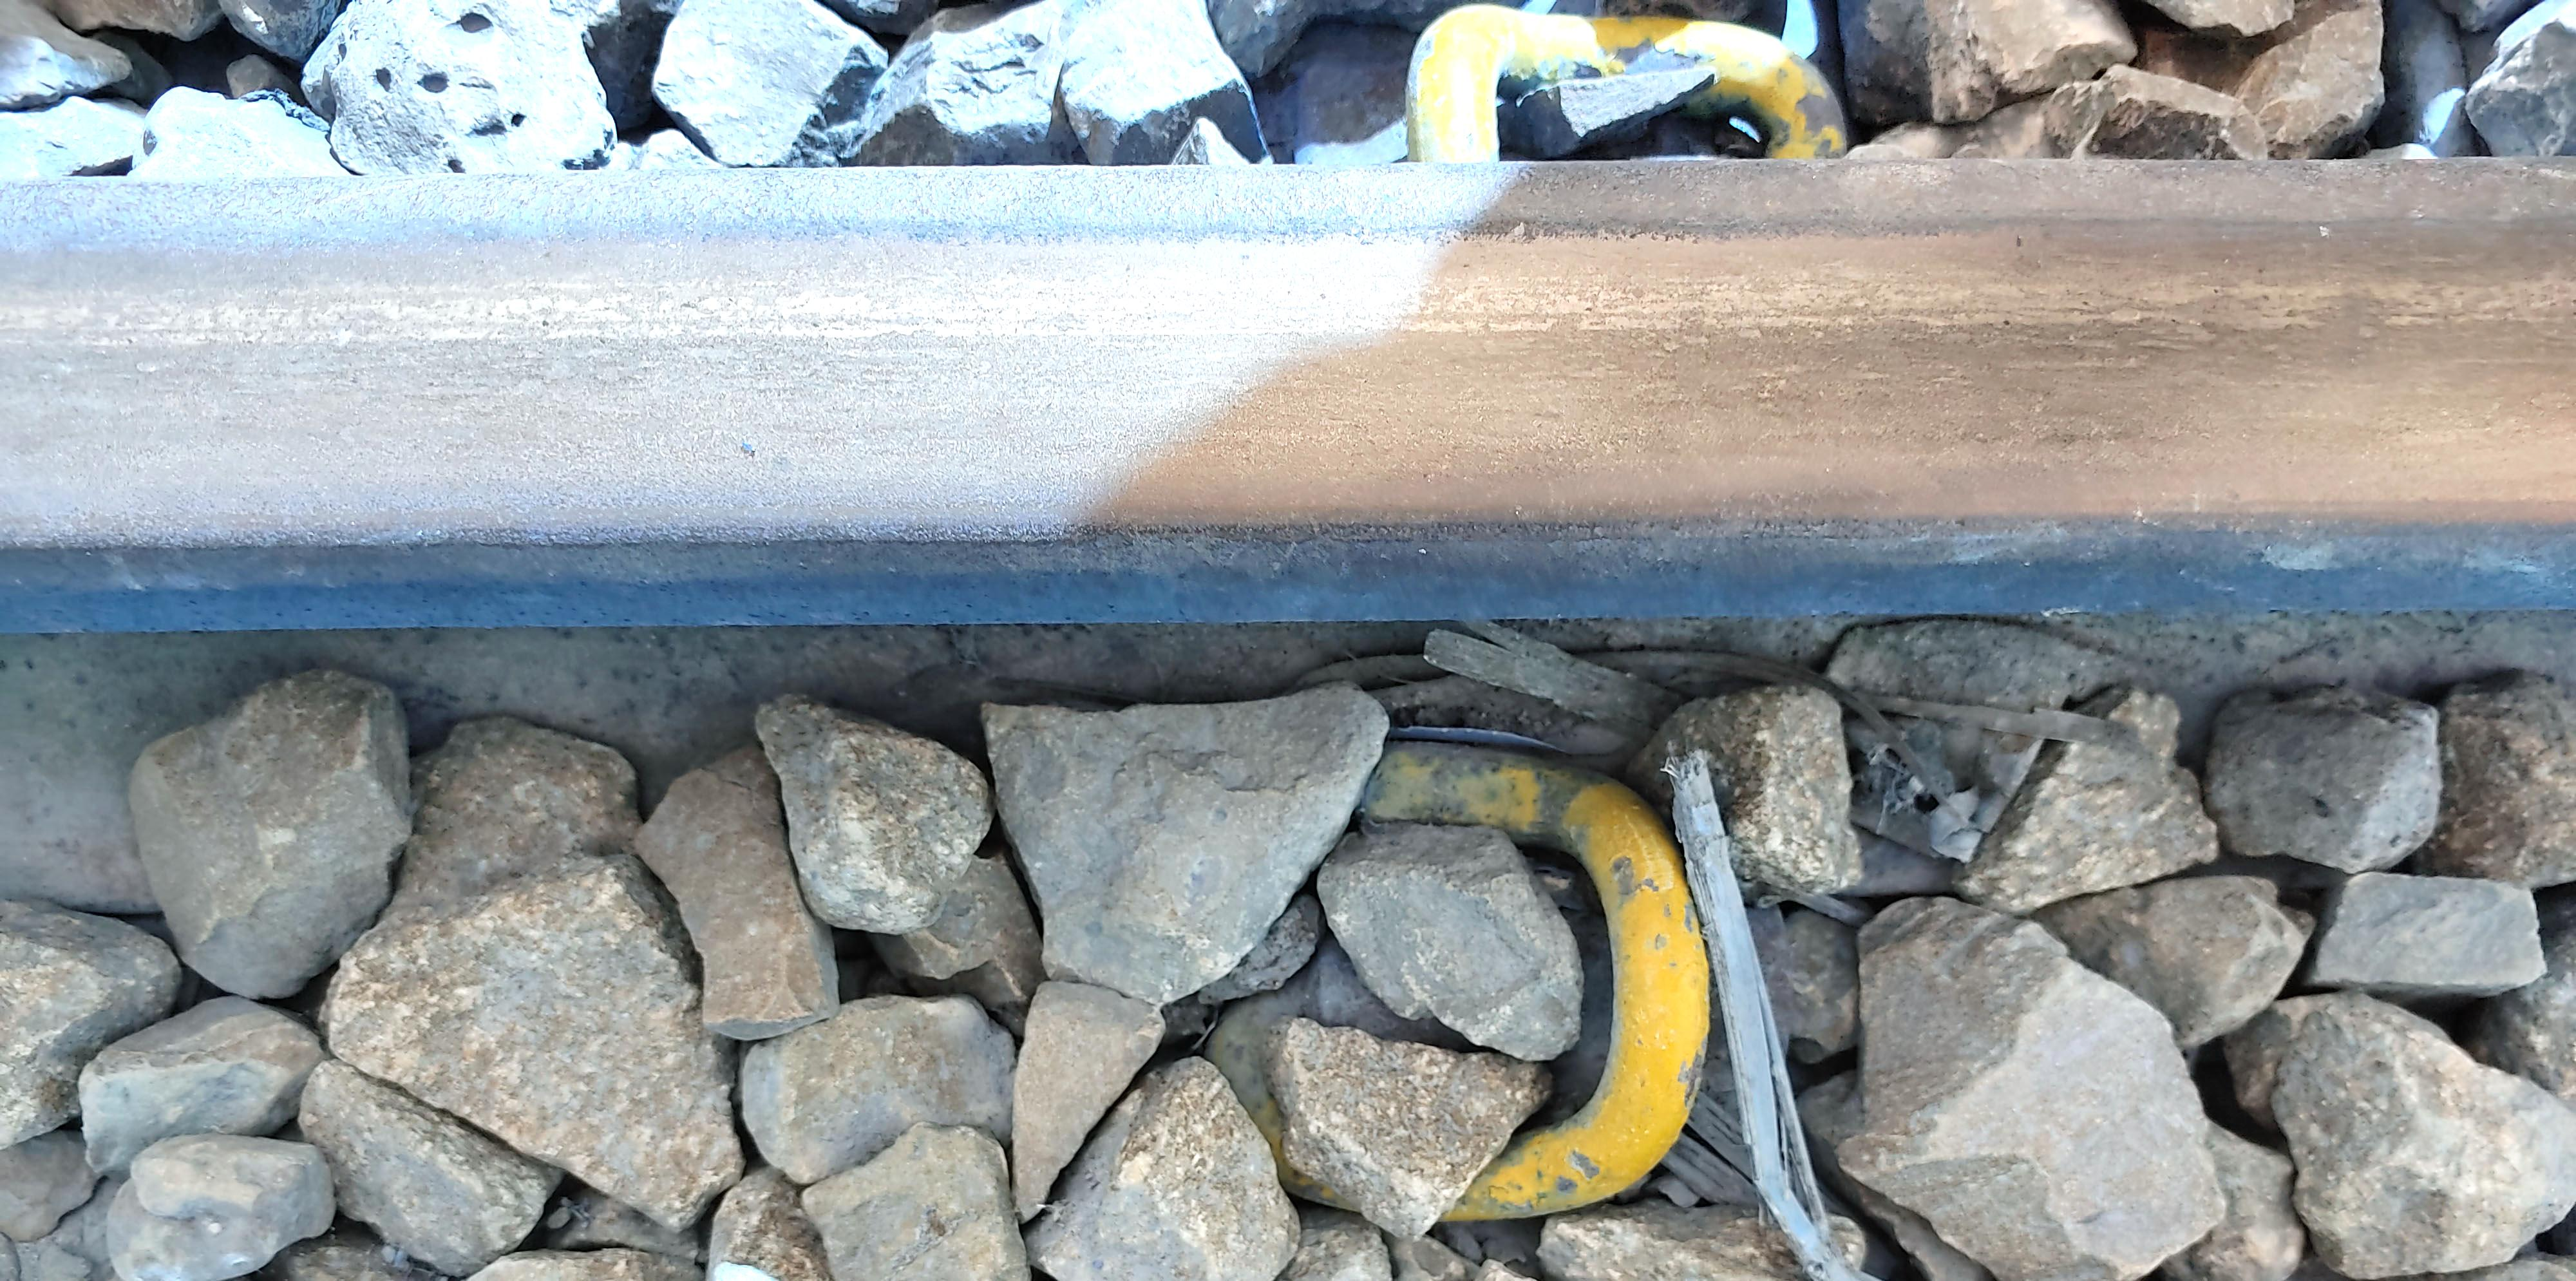error1: (1283, 714, 1732, 1242), (1383, 13, 1909, 214)
